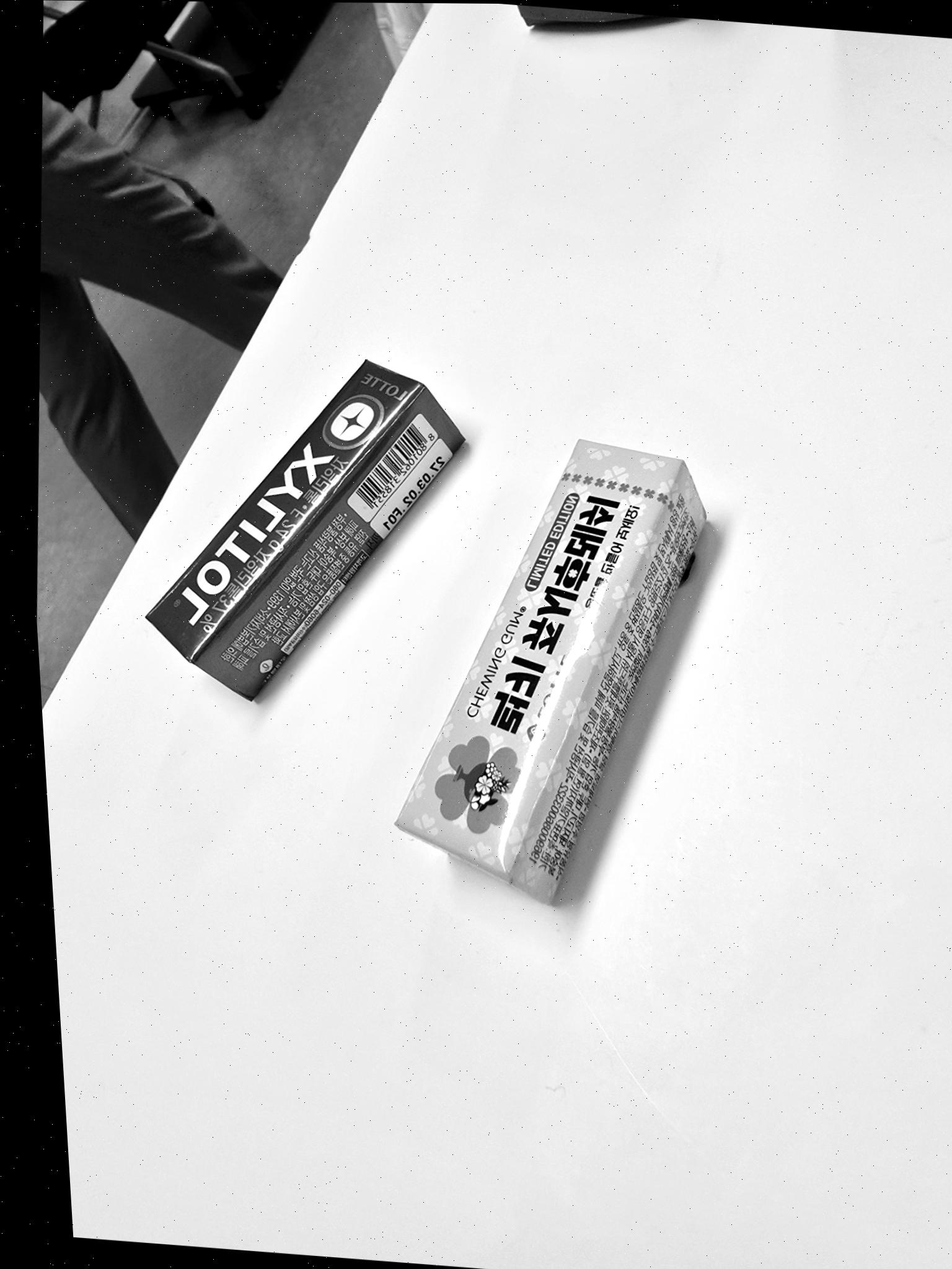gum_green: (148, 360, 464, 699)
gum_yellow: (397, 440, 706, 902)
